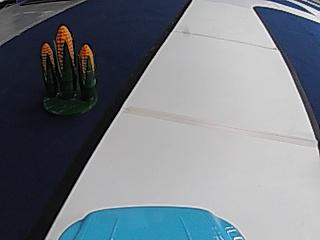corn: (35, 18, 100, 114)
